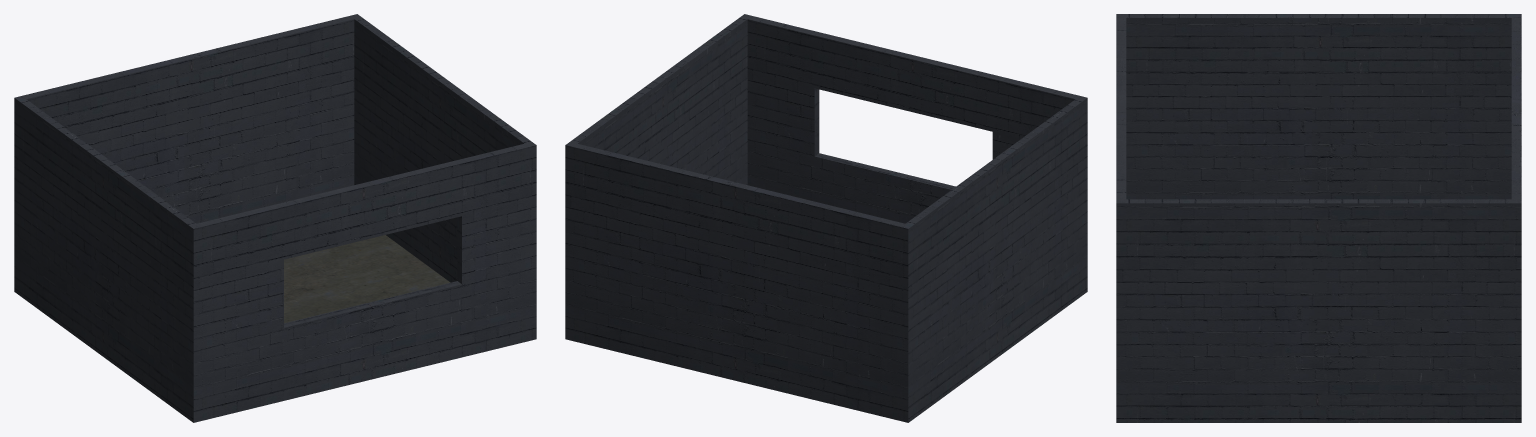
File: interrogation_room.FBX
3 renders of one model, left to right at view 1: azimuth 30°, elevation 25°; view 2: azimuth 150°, elevation 25°; view 3: azimuth 270°, elevation 25°, orthographic. The views are drawn at different scales.
Visible parts, largest first — view 1: interrogation_walls, interrogation_floor; view 2: interrogation_walls; view 3: interrogation_walls.
Part boxes in pixels (left/top/right/bottom): interrogation_walls: left=14, top=14, right=536, bottom=422; interrogation_floor: left=284, top=235, right=450, bottom=323; interrogation_walls: left=565, top=14, right=1087, bottom=422; interrogation_walls: left=1116, top=14, right=1521, bottom=422.
Bounding box in the file's own units: 403 × 218 × 365.
